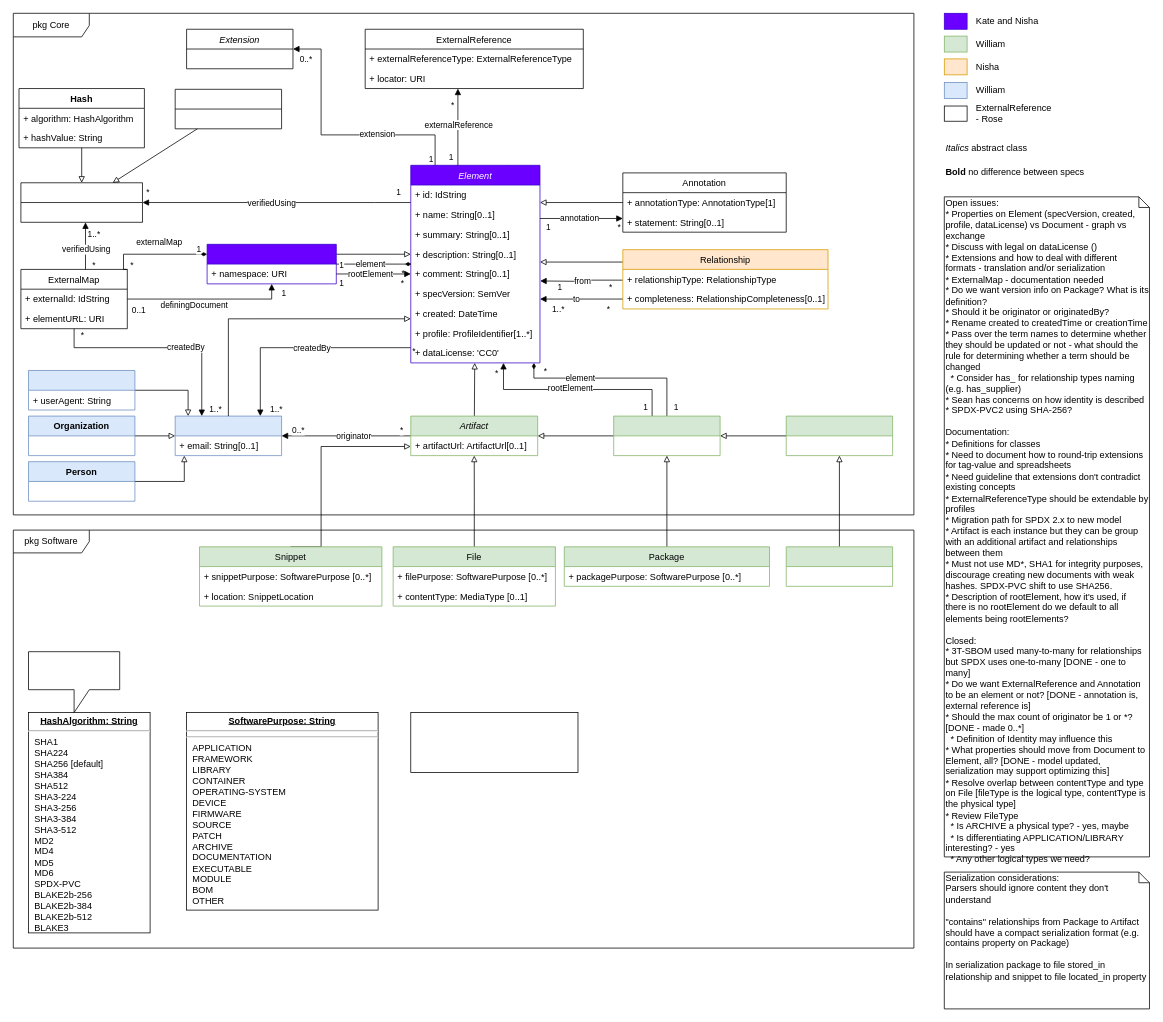
This 1163x1022 diagram has some shape labels left out. The shapes that lost their labels are listed below. From the top down, each one's box as (x1, y1, x2, y2) in pixels, then its label:
(174, 89, 282, 129): PublicKey
(20, 182, 142, 222): IntegrityMethod
(206, 244, 336, 284): Document
(28, 370, 135, 410): Tool
(174, 415, 282, 456): Identity
(613, 415, 720, 456): ContextualCollection
(785, 415, 893, 456): BOM
(785, 546, 893, 586): SBOM
(28, 651, 120, 712): Seeded from CycloneDX + SPDX
(410, 712, 578, 773): RelationshipCompleteness: String KNOWN [Default] INCOMPLETE UNKNOWN
